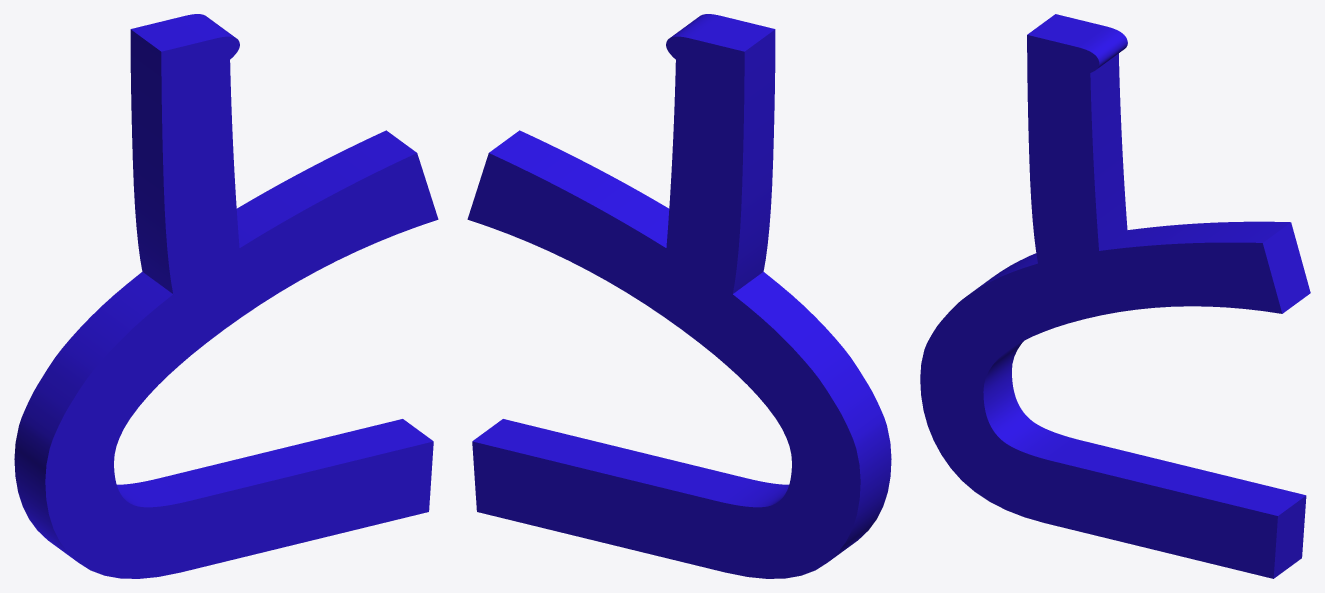
3 views of the same model, side by side, from view 1: azimuth 30°, elevation 25°; view 2: azimuth 150°, elevation 25°; view 3: azimuth 330°, elevation 25° (orthographic). The views are drawn at different scales.
Visible parts, largest first — view 1: to; view 2: to; view 3: to.
Boxes of the visible parts, left/top/right/bottom form: to: left=14, top=14, right=438, bottom=578; to: left=467, top=14, right=891, bottom=578; to: left=920, top=14, right=1310, bottom=578.
Size of the model in its own units: 72.04 by 92 by 9.79.
